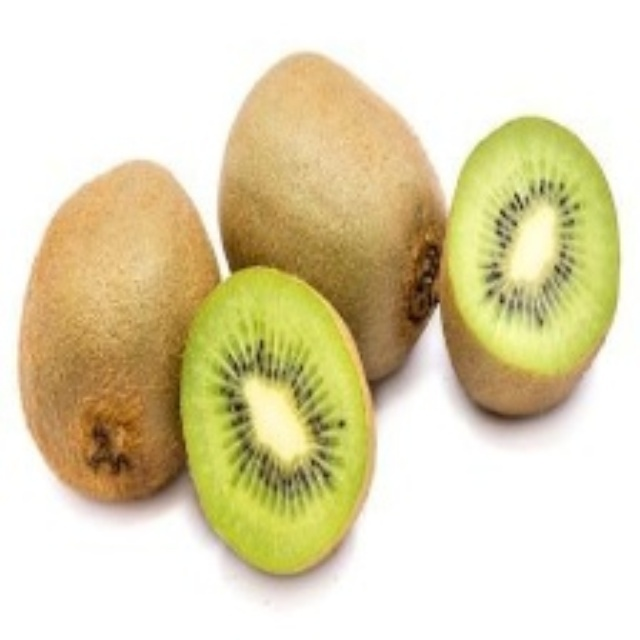kiwi: (22, 161, 216, 499), (183, 258, 384, 582), (222, 53, 428, 367), (443, 112, 623, 412)
